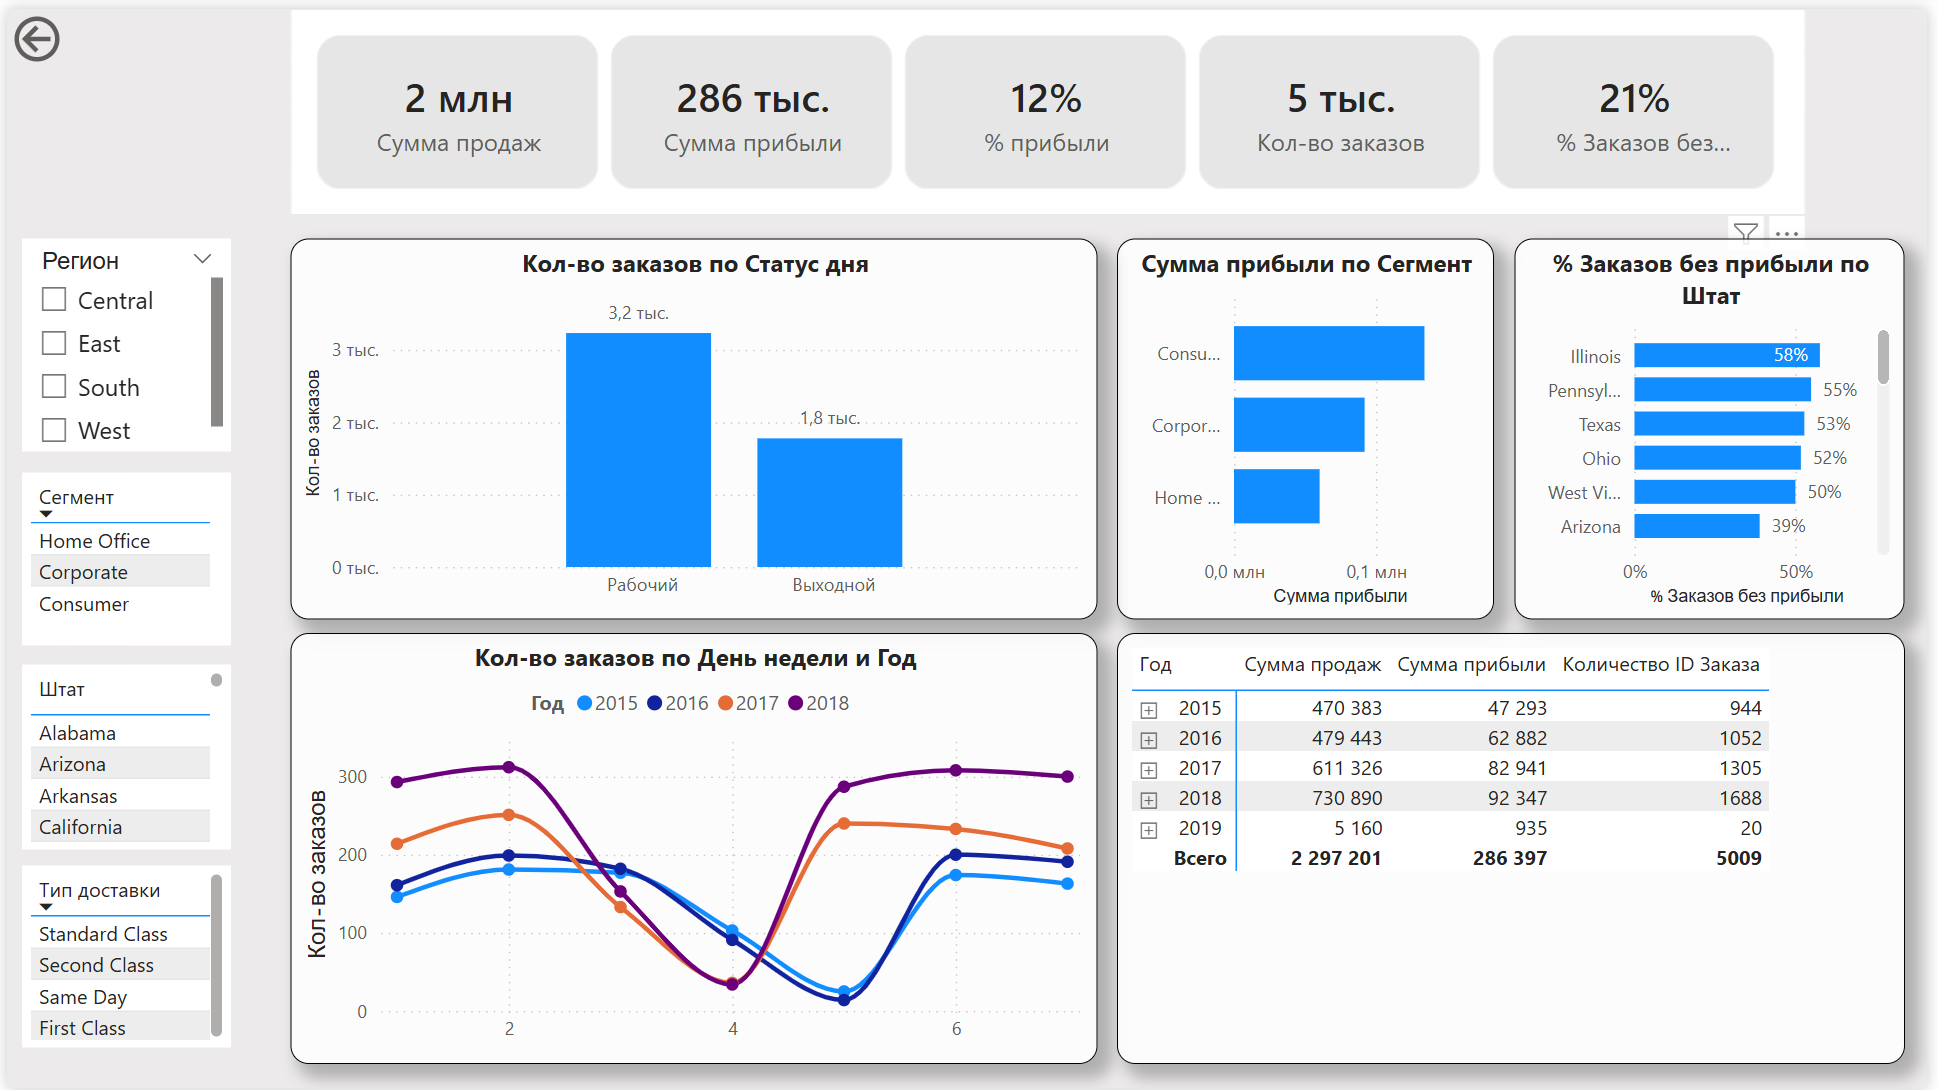

The dashboard page shown, as its layout file describes it:
{"tool":"powerbi","page":{"name":"аналитика заказов","canvas":[1280,719],"ordinal":0},"visuals":[{"type":"cardVisual","fields":{"Data":["dox.Сумма продаж","dox.Сумма прибыли","dox.% прибыли","dox.Кол-во заказов","dox.% без прибыли"]},"box":[188.9,0,1010.4,136.7],"z":0},{"type":"clusteredBarChart","fields":{"Category":["Продажи.Сегмент"],"Y":["dox.Сумма прибыли"]},"box":[740.4,153,250.3,253.8],"z":1000},{"type":"columnChart","fields":{"Category":["яКалендарь.Статус дня"],"Y":["dox.Кол-во заказов"]},"box":[188.9,153,537.7,253.8],"z":2000},{"type":"lineChart","fields":{"Series":["яКалендарь.Год"],"Category":["яКалендарь.День недели"],"Y":["dox.Кол-во заказов"]},"box":[188.9,416,537.7,287.4],"z":3000},{"type":"slicer","fields":{"Values":["Продажи.Регион"]},"box":[10.4,153,139,142.5],"z":4000},{"type":"tableEx","fields":{"Values":["Продажи.Сегмент"]},"box":[10.4,309.4,139,114.7],"z":5000},{"type":"tableEx","fields":{"Values":["Продажи.Тип доставки"]},"box":[10.4,571.3,139,120.5],"z":6000},{"type":"tableEx","fields":{"Values":["Продажи.Штат"]},"box":[10.4,436.8,139,122.8],"z":7000},{"type":"clusteredBarChart","fields":{"Y":["dox.% без прибыли"],"Category":["Продажи.Штат"]},"box":[1004.6,153,260.7,253.8],"z":8000},{"type":"actionButton","box":[0,0,100,40],"z":9000},{"type":"pivotTable","fields":{"Rows":["Продажи.Дата доставки.Изменение.Иерархия дат.Год","Продажи.Дата доставки.Изменение.Иерархия дат.Квартал","Продажи.Дата доставки.Изменение.Иерархия дат.Месяц","Продажи.Дата доставки.Изменение.Иерархия дат.День"],"Values":["dox.Сумма продаж","dox.Сумма прибыли","Count(Продажи.ID Заказа)"]},"box":[740.4,416,524.9,287.4],"z":10000}]}

Visuals, with their boxes on the page's 1280x719 design canvas (x1, y1, x2, y2). These are canvas units, not pixel positions in the 1938x1090 screenshot, which may show the page scaled, cropped or inside an application window:
cardVisual - dox.Сумма продаж x dox.Сумма прибыли: detection(189, 0, 1199, 137)
clusteredBarChart - Продажи.Сегмент x dox.Сумма прибыли: detection(740, 153, 991, 407)
columnChart - яКалендарь.Статус дня x dox.Кол-во заказов: detection(189, 153, 727, 407)
lineChart - яКалендарь.Год x яКалендарь.День недели: detection(189, 416, 727, 703)
slicer - Продажи.Регион: detection(10, 153, 149, 296)
tableEx - Продажи.Сегмент: detection(10, 309, 149, 424)
tableEx - Продажи.Тип доставки: detection(10, 571, 149, 692)
tableEx - Продажи.Штат: detection(10, 437, 149, 560)
clusteredBarChart - dox.% без прибыли x Продажи.Штат: detection(1005, 153, 1265, 407)
actionButton: detection(0, 0, 100, 40)
pivotTable - Продажи.Дата доставки.Изменение.Иерархия дат.Год x Продажи.Дата доставки.Изменение.Иерархия дат.Квартал: detection(740, 416, 1265, 703)
